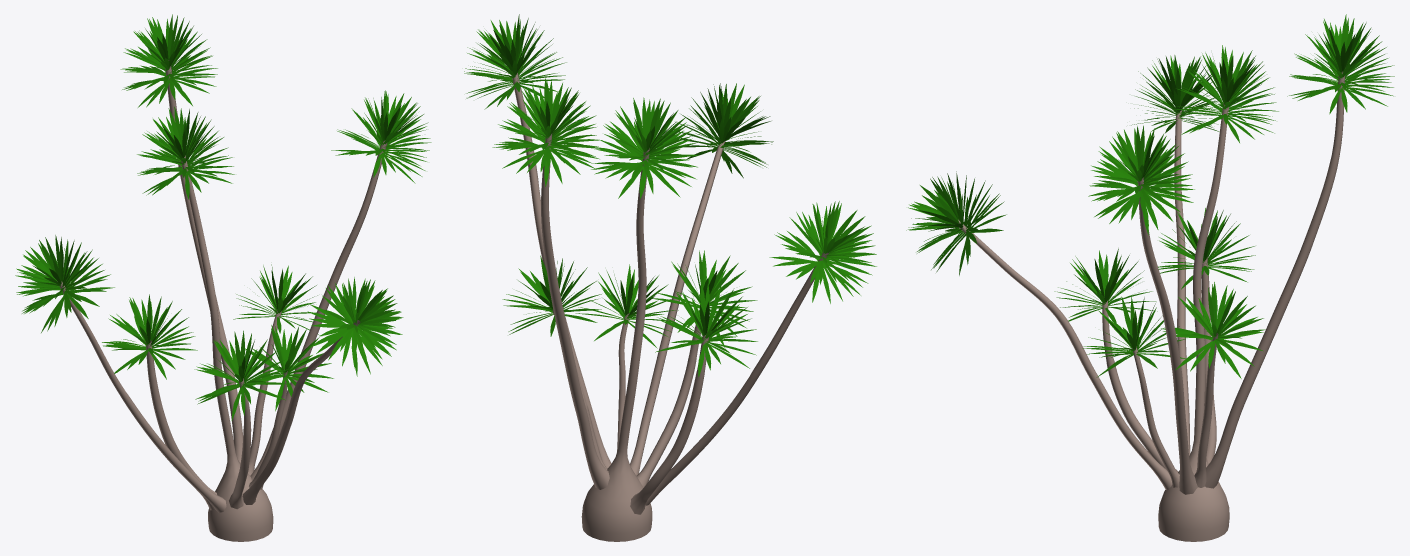
Rendered from Tiny Yuka.FBX.
3 views of the same model, side by side, from view 1: azimuth 30°, elevation 25°; view 2: azimuth 150°, elevation 25°; view 3: azimuth 270°, elevation 25° (orthographic). The views are drawn at different scales.
Visible parts, largest first — view 1: Foliage001; view 2: Foliage001; view 3: Foliage001.
Part boxes in pixels (x1,y1,x2,y2): Foliage001: (15, 14, 431, 541); Foliage001: (464, 14, 876, 541); Foliage001: (906, 14, 1394, 541).
Bounding box in the file's own units: 200 × 226 × 199.
